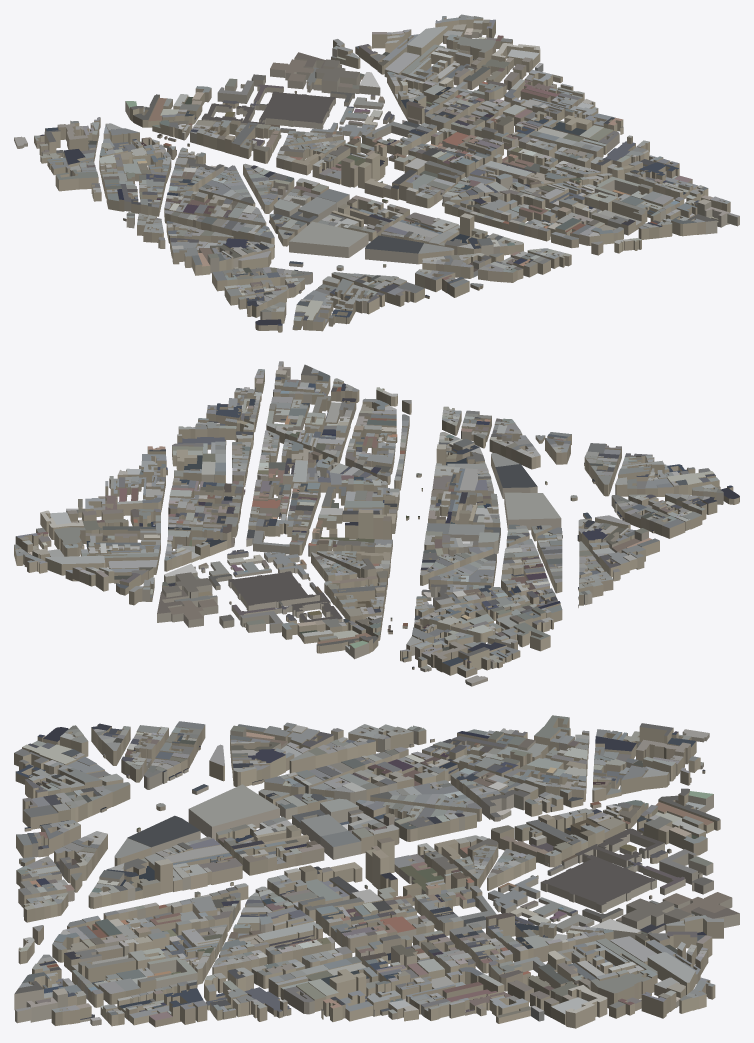
3 renders of one model, top to bottom at view 1: azimuth 30°, elevation 25°; view 2: azimuth 150°, elevation 25°; view 3: azimuth 270°, elevation 25°, orthographic. The views are drawn at different scales.
Parts seen in each view (by area): view 1: tuile; view 2: tuile; view 3: tuile.
Part boxes in pixels (left/top/right/bottom): tuile: left=14, top=14, right=739, bottom=332; tuile: left=14, top=361, right=739, bottom=686; tuile: left=14, top=715, right=739, bottom=1028.
Size of the model in its own units: 1069 by 53.09 by 1065.
